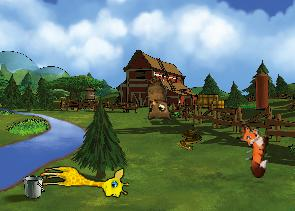fox: (231, 122, 272, 178)
giraffe: (39, 166, 129, 198)
owl: (132, 73, 176, 127)
